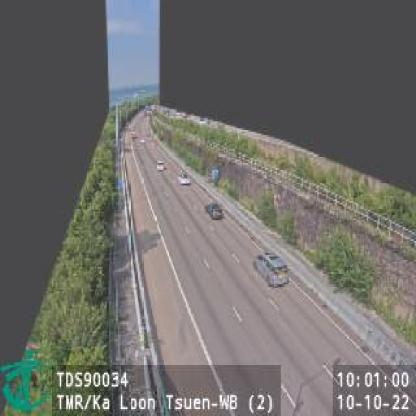Car: (254, 249, 289, 286), (206, 202, 224, 220), (179, 173, 190, 185), (157, 161, 166, 171)
